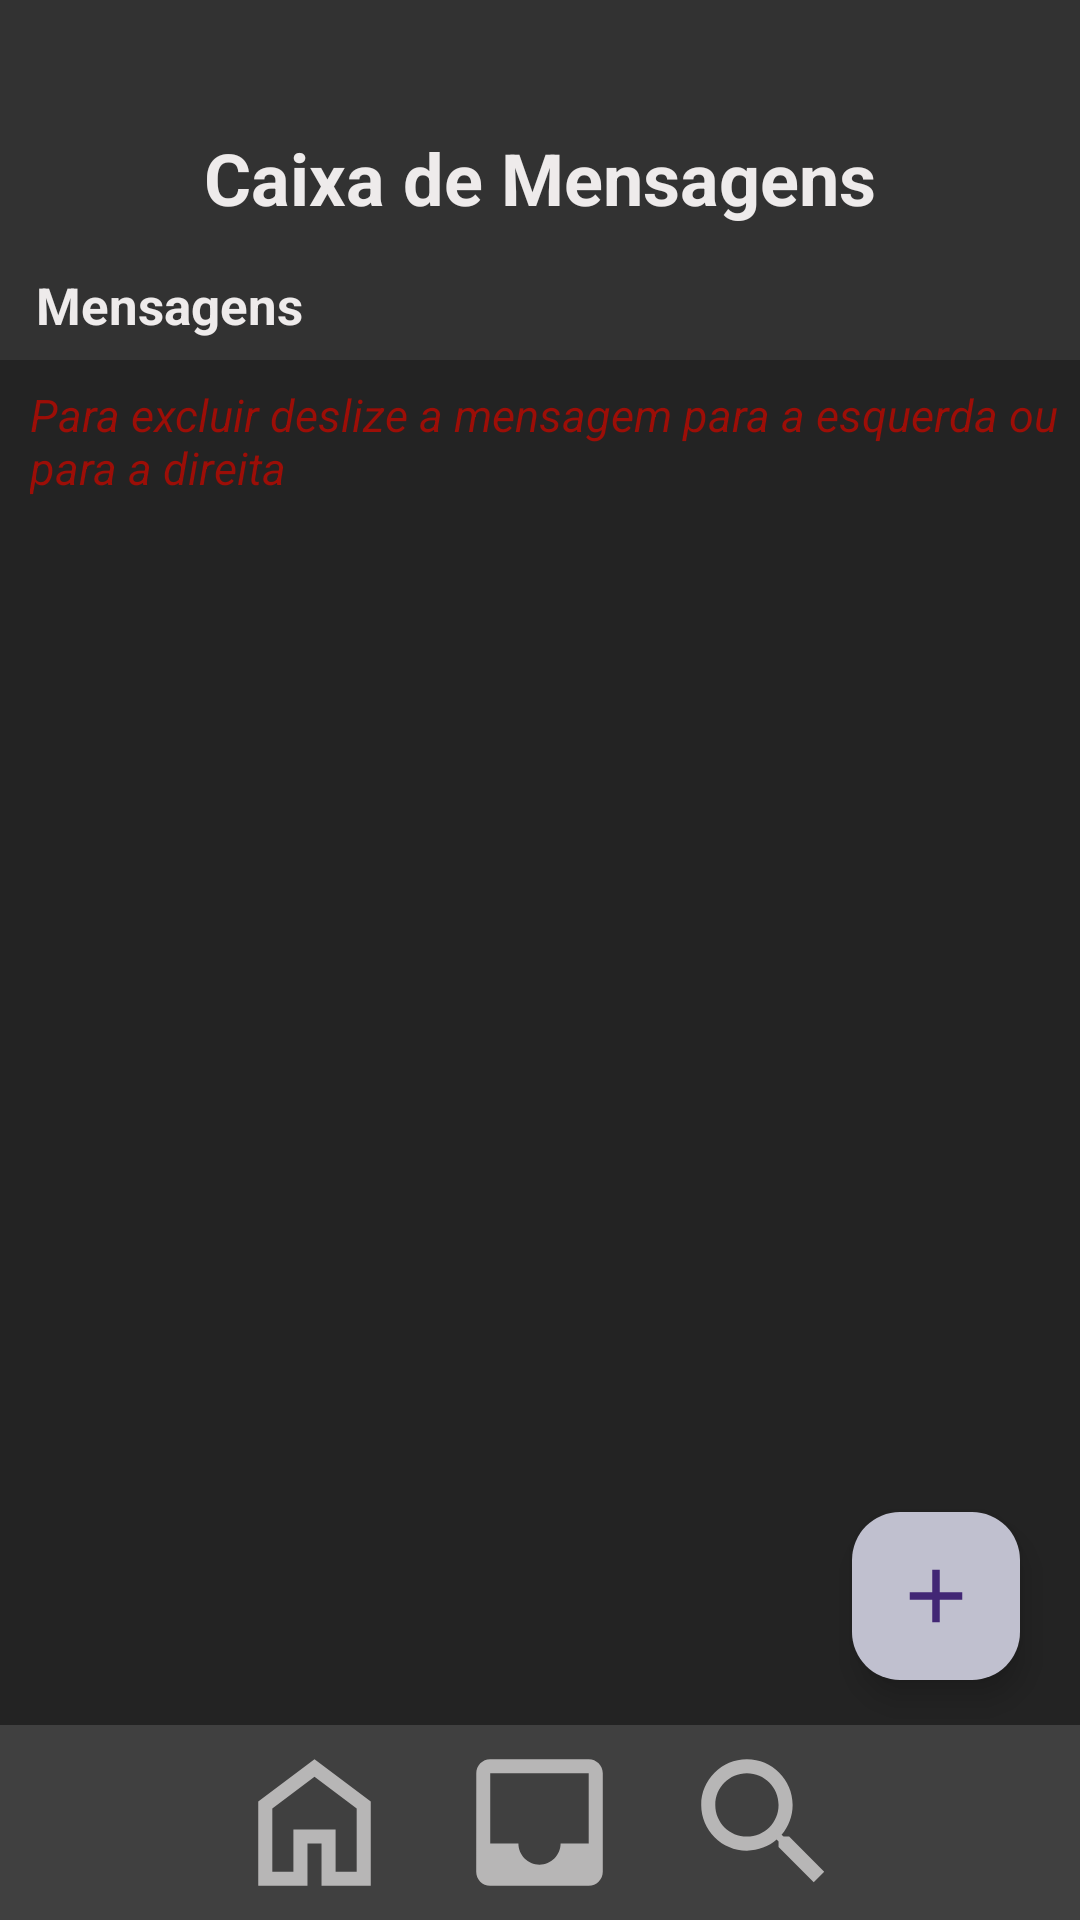

Screen size 1080px×1920px. Icon name, then its center in pixels as [x,y]:
home: [314,1822]
inbox: [539,1822]
plus: [936,1596]
search: [762,1820]
